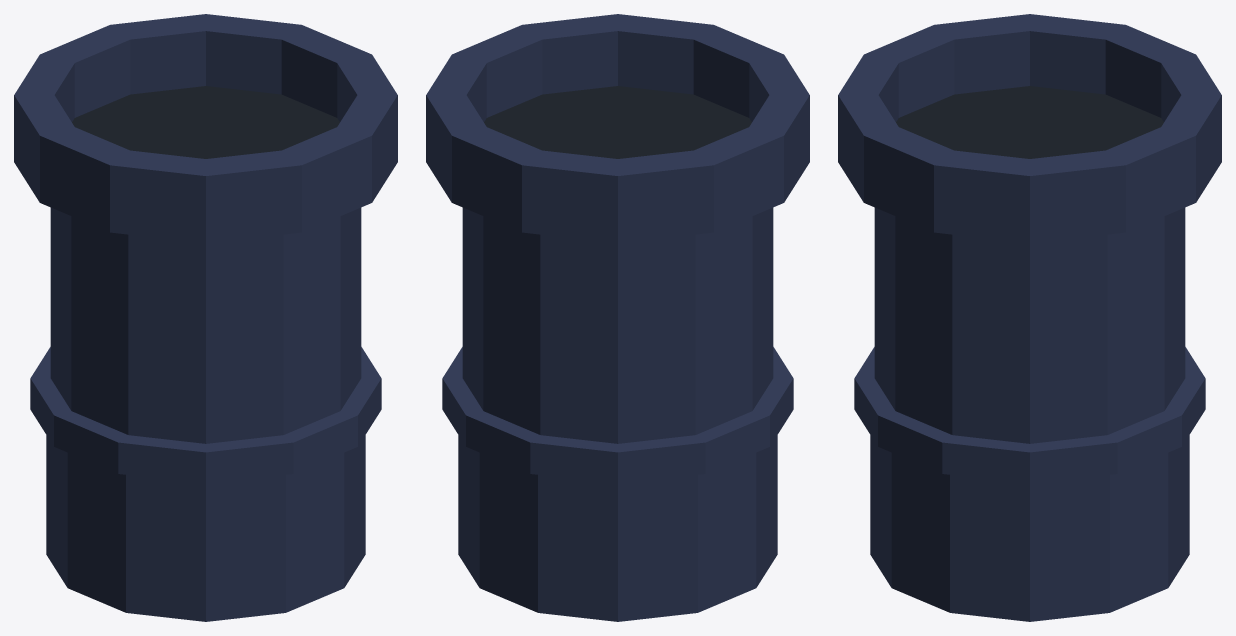
File: tuberia.fbx
3 renders of one model, left to right at view 1: azimuth 30°, elevation 25°; view 2: azimuth 150°, elevation 25°; view 3: azimuth 270°, elevation 25°, orthographic.
Visible parts, largest first — view 1: Circle; view 2: Circle; view 3: Circle.
Boxes of the visible parts, left/top/right/bottom form: Circle: left=14, top=14, right=397, bottom=621; Circle: left=426, top=14, right=809, bottom=621; Circle: left=838, top=14, right=1221, bottom=621.
Bounding box in the file's own units: 240 × 317 × 240.
